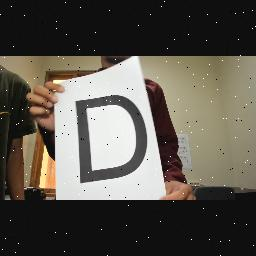d: (74, 91, 152, 189)
